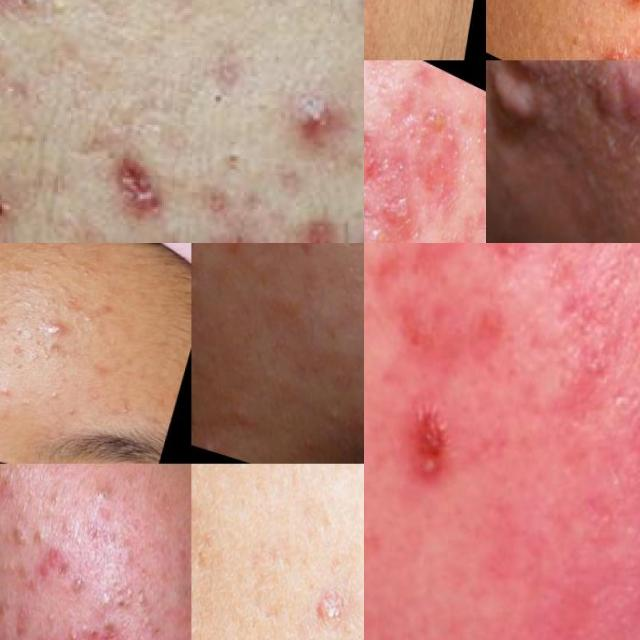acne_scars: (364, 142, 439, 243), (114, 131, 166, 241), (418, 125, 473, 225), (455, 303, 503, 365), (553, 280, 601, 341), (296, 194, 352, 243), (0, 0, 90, 29), (27, 531, 72, 589), (481, 243, 529, 285), (401, 306, 434, 366)
comedone: (184, 62, 259, 131), (210, 148, 274, 209), (106, 568, 154, 626), (62, 563, 98, 612), (58, 609, 98, 640), (61, 260, 101, 286), (27, 254, 61, 280), (0, 547, 25, 582), (34, 378, 63, 404), (0, 587, 16, 622), (8, 344, 32, 361), (116, 398, 134, 420), (0, 382, 11, 402)
crystanlline: (410, 407, 452, 509)
cystic: (579, 78, 615, 129), (615, 60, 640, 110)
keloid: (486, 60, 550, 157), (486, 60, 561, 80)
papule: (420, 104, 447, 144), (36, 316, 70, 346), (369, 232, 386, 243)
sebo-crystan-conglo: (81, 472, 117, 523), (6, 522, 37, 562), (0, 463, 17, 498)
